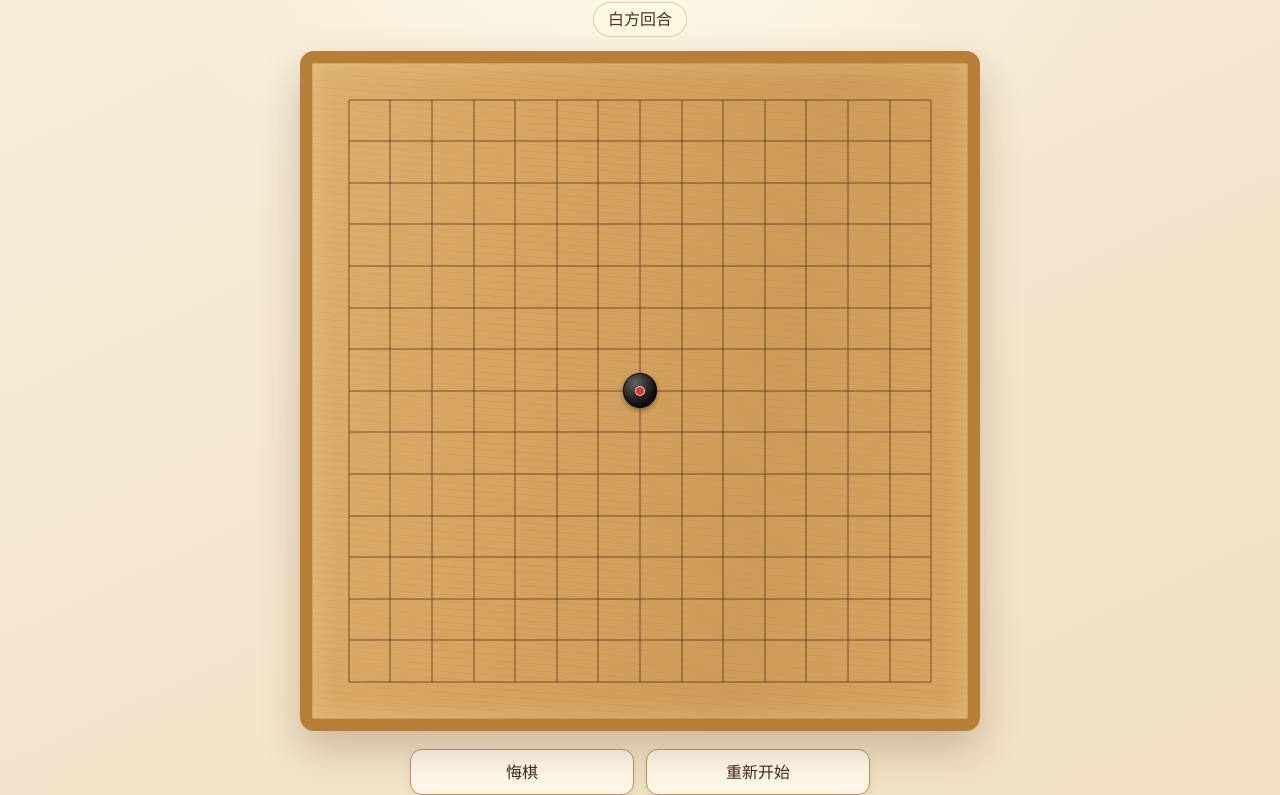
Test: GomokuPage › 确认弹窗显示精确清除说明
This screenshot has width=1280, height=795.
(page scrolled)
Click the button "重新开始" at (758, 772), box [646,749,870,794]
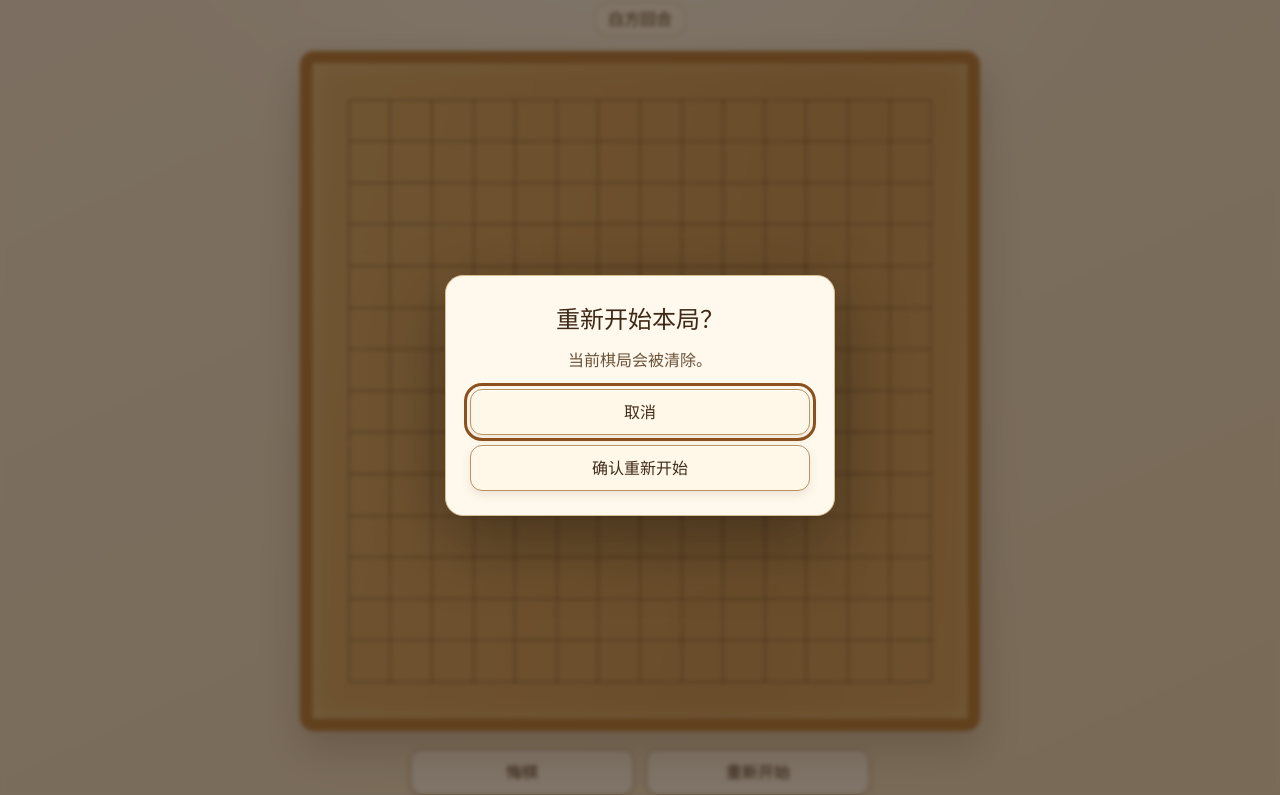
Now the text "当前棋局会被清除。" is shown, box [568,348,712,370]
